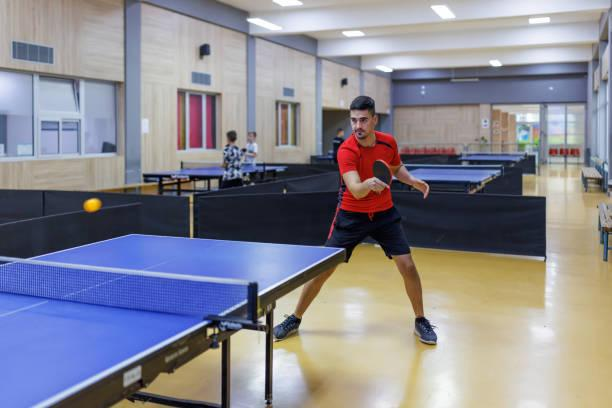ball_pingpong: (83, 197, 102, 212)
